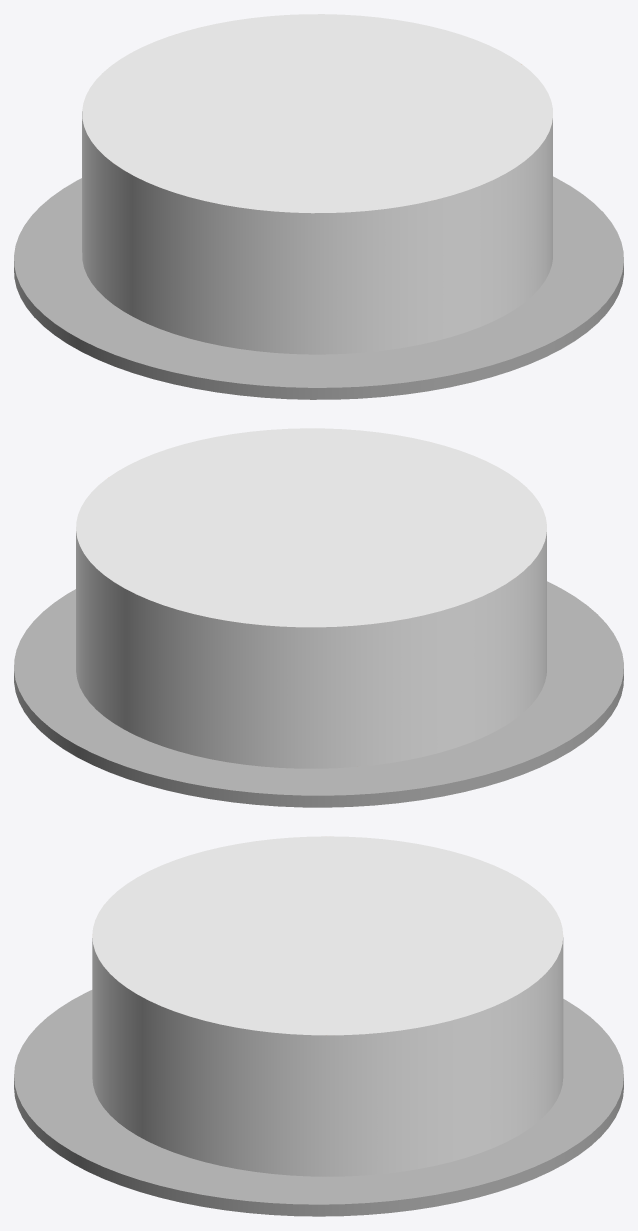
The model's file is pastel.glb.
3 views of the same model, one above another, from view 1: azimuth 30°, elevation 25°; view 2: azimuth 150°, elevation 25°; view 3: azimuth 270°, elevation 25° (orthographic).
Parts seen in each view (by area): view 1: mesh_id47, mesh_id52; view 2: mesh_id47, mesh_id52; view 3: mesh_id47, mesh_id52.
Boxes of the visible parts, bbox=[...] form: mesh_id47: bbox=[82, 14, 552, 354]; mesh_id52: bbox=[14, 176, 623, 399]; mesh_id47: bbox=[76, 428, 546, 768]; mesh_id52: bbox=[14, 581, 623, 807]; mesh_id47: bbox=[92, 836, 563, 1176]; mesh_id52: bbox=[14, 990, 623, 1216].
Size of the model in its own units: 0.4736 by 0.1313 by 0.4736.
2 materials, 2 textured.
